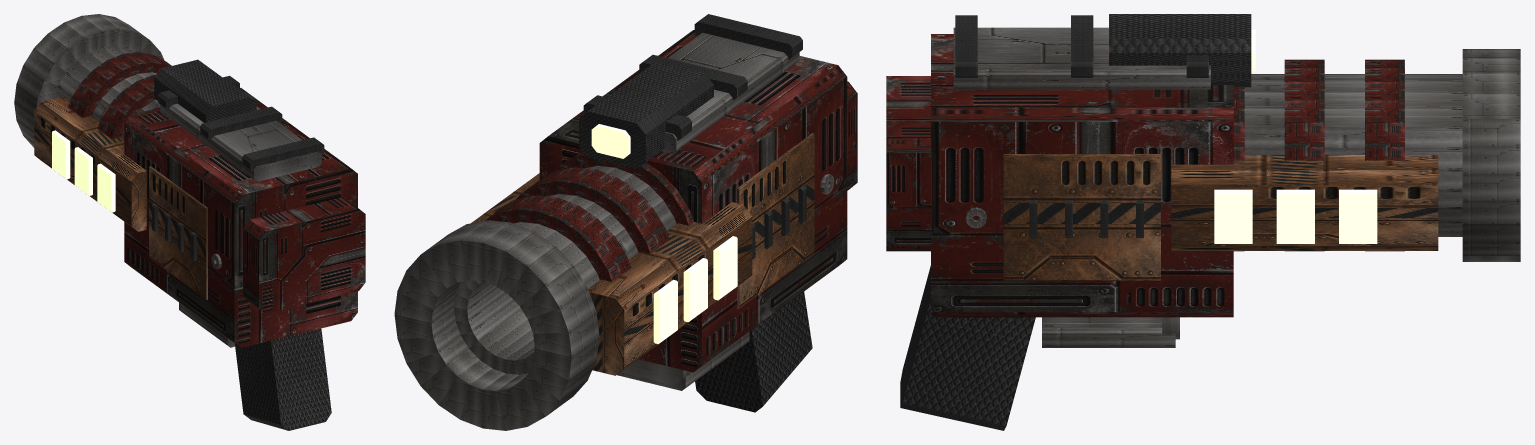
The model's file is seeker_plasma.gltf.
3 renders of one model, left to right at view 1: azimuth 30°, elevation 25°; view 2: azimuth 150°, elevation 25°; view 3: azimuth 270°, elevation 25°, orthographic. The views are drawn at different scales.
Visible parts, largest first — view 1: Receiver, RearCapacitor, Grip, Muzzle, CellBank, InsetPanel, ContainmentCollar (×2), TopRail, RangingSight, RailNotch (×3), PulseWindow (×3), PressureSleeve (+1 smaller); view 2: Muzzle, Receiver, CellBank (×2), ContainmentCollar (×3), PressureSleeve, InsetPanel, RangingSight, Grip, TopRail, RailNotch (×3), PulseWindow (×3), RearCapacitor (+3 smaller); view 3: Receiver, InsetPanel, CellBank, PressureSleeve, Muzzle, Grip, TopRail, ContainmentCollar (×3), RangingSight, RearCapacitor, PulseWindow (×3), TriggerGuard (+1 smaller).
Boxes of the visible parts, box(x1,y1,x2,y2) form: Receiver: box(124, 88, 357, 347); RearCapacitor: box(243, 197, 365, 313); Grip: box(234, 328, 331, 430); Muzzle: box(14, 14, 164, 147); CellBank: box(34, 96, 146, 231); InsetPanel: box(149, 166, 207, 299); ContainmentCollar (×2): box(68, 52, 171, 139); TopRail: box(160, 103, 321, 181); RangingSight: box(154, 59, 256, 122); RailNotch (×3): box(158, 75, 324, 171); PulseWindow (×3): box(52, 130, 115, 212); PressureSleeve: box(53, 46, 160, 139); Muzzle: box(394, 220, 599, 430); Receiver: box(539, 30, 847, 372); CellBank (×2): box(471, 173, 752, 375); ContainmentCollar (×3): box(485, 152, 693, 281); PressureSleeve: box(454, 166, 676, 374); InsetPanel: box(737, 133, 814, 309); RangingSight: box(579, 61, 713, 169); Grip: box(695, 291, 812, 412); TopRail: box(662, 32, 799, 153); RailNotch (×3): box(583, 14, 802, 140); PulseWindow (×3): box(653, 236, 737, 344); RearCapacitor: box(847, 81, 857, 190); Receiver: box(931, 34, 1233, 317); InsetPanel: box(1003, 154, 1160, 280); CellBank: box(1171, 155, 1438, 250); PressureSleeve: box(1244, 74, 1462, 236); Muzzle: box(1462, 49, 1520, 261); Grip: box(900, 265, 1035, 430); TopRail: box(953, 27, 1210, 89); ContainmentCollar (×3): box(1233, 59, 1404, 251); RangingSight: box(1109, 14, 1251, 87); RearCapacitor: box(886, 76, 930, 251); PulseWindow (×3): box(1214, 189, 1377, 243); TriggerGuard: box(1042, 317, 1175, 347).
Bounding box in the file's own units: 0.2186 × 0.3646 × 0.5344.
5 materials, 4 textured.
